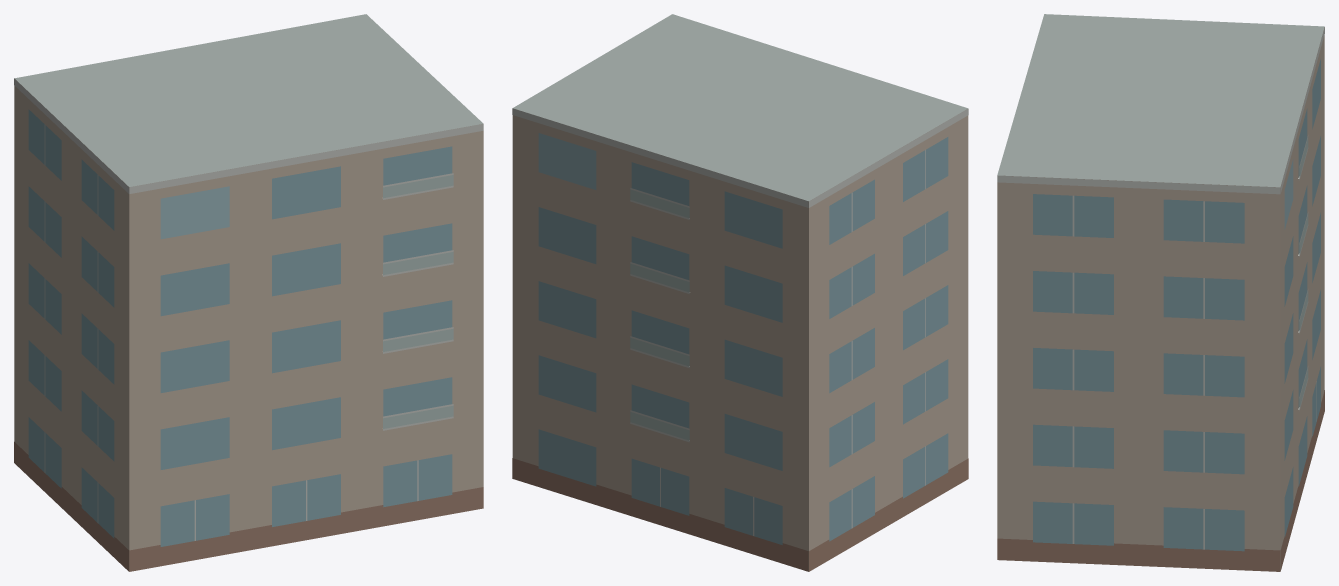
File: survey-upis-32917067.glb
3 renders of one model, left to right at view 1: azimuth 30°, elevation 25°; view 2: azimuth 150°, elevation 25°; view 3: azimuth 270°, elevation 25°, orthographic. The views are drawn at different scales.
Parts seen in each view (by area): view 1: survey-upis-32917067.tmp; view 2: survey-upis-32917067.tmp; view 3: survey-upis-32917067.tmp.
Part boxes in pixels (bbox=[...]): survey-upis-32917067.tmp: bbox=[14, 14, 483, 571]; survey-upis-32917067.tmp: bbox=[512, 14, 968, 571]; survey-upis-32917067.tmp: bbox=[997, 14, 1324, 571].
Bounding box in the file's own units: 12.96 × 13.4 × 10.36.
